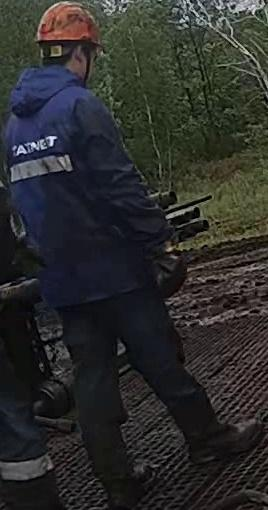gloves: (143, 224, 187, 298)
helmet: (33, 0, 102, 48)
vest: (3, 64, 156, 307)
